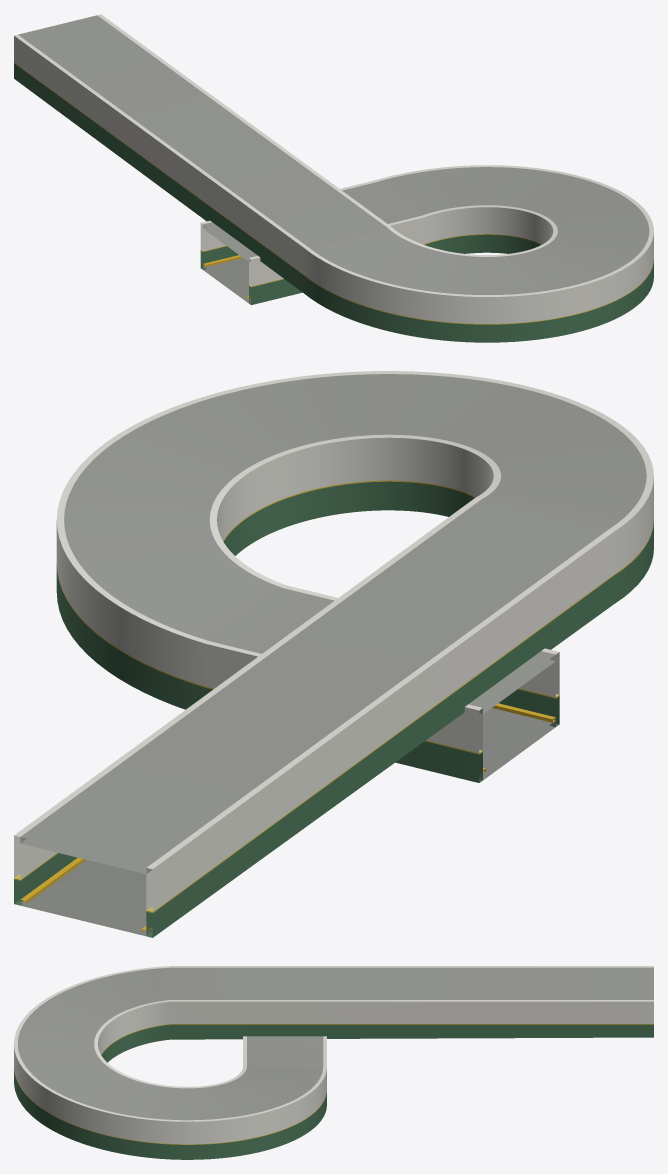
The model's file is helix_east.glb.
3 views of the same model, one above another, from view 1: azimuth 30°, elevation 25°; view 2: azimuth 150°, elevation 25°; view 3: azimuth 270°, elevation 25° (orthographic). The views are drawn at different scales.
Visible parts, largest first — view 1: helix_east; view 2: helix_east; view 3: helix_east.
Part boxes in pixels (x1,y1,x2,y2): helix_east: [14, 14, 653, 342]; helix_east: [14, 371, 653, 937]; helix_east: [14, 966, 653, 1159].
Bounding box in the file's own units: 25.3 × 6.3 × 50.3.
